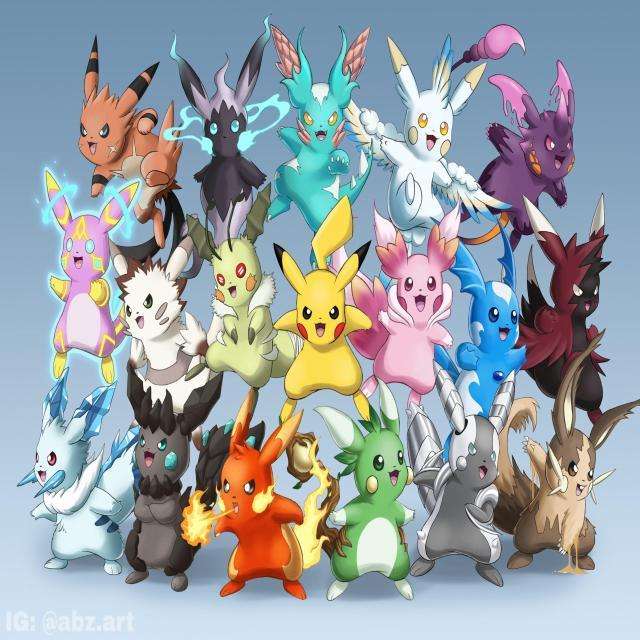Pikachu: (263, 228, 379, 419)
